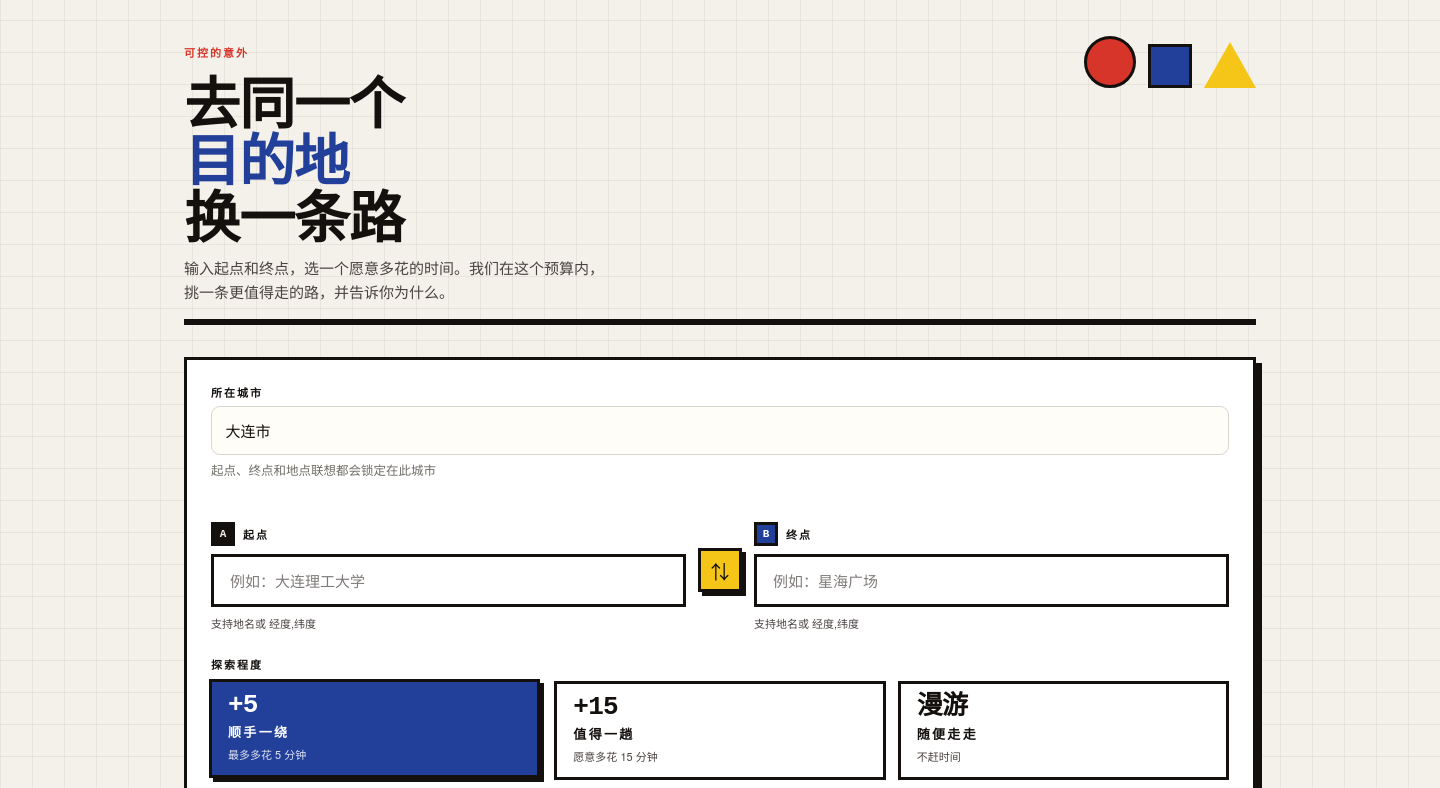
Test: HomeView › surfaces the backend error message on failure
Type "起点" into the dropdown labelled "A 起点". click: coordinates (448, 581)
box: [211, 554, 686, 607]
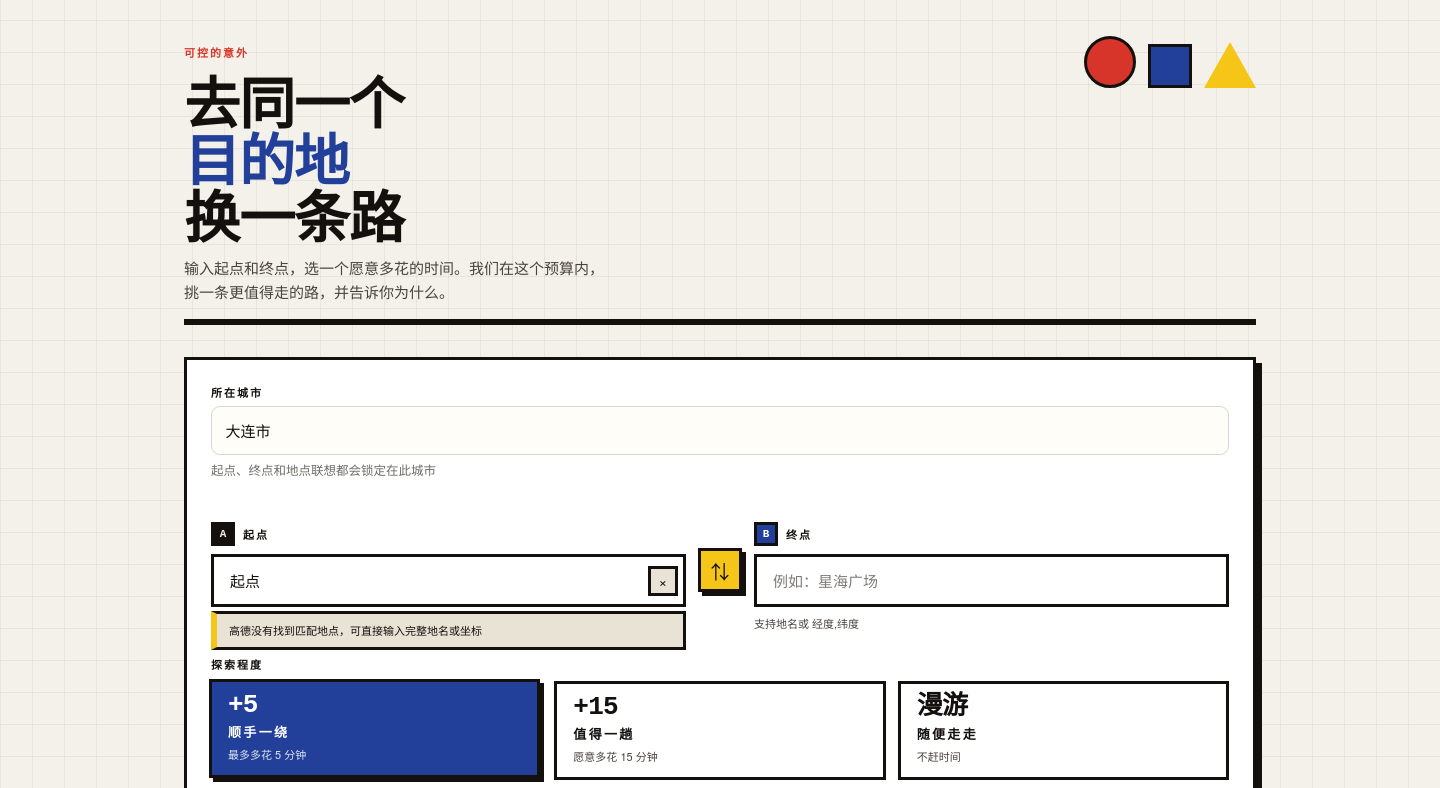
Type "终点" into the dropdown labelled "B 终点". click: coordinates (992, 581)
box: [754, 554, 1229, 607]
(page scrolled)
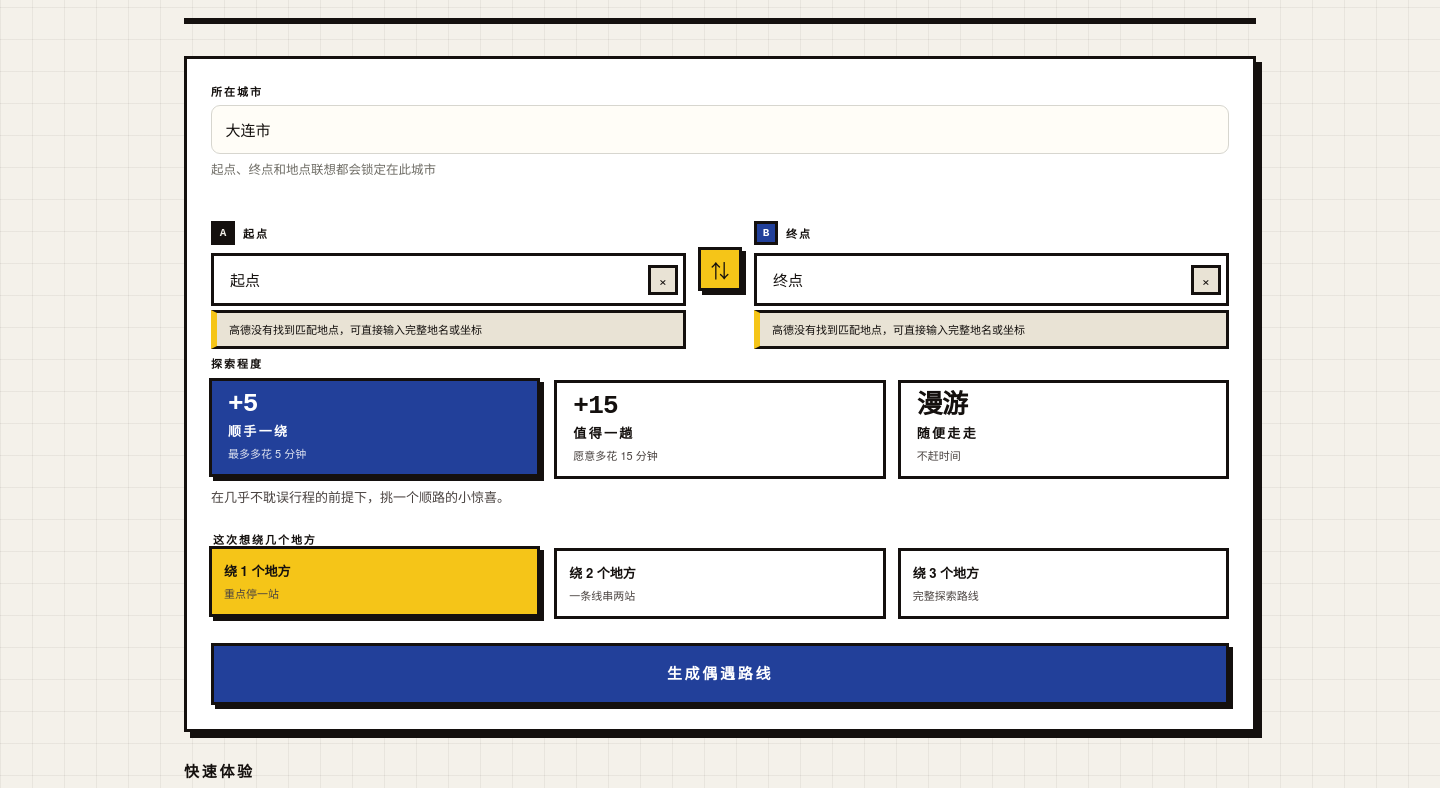
Submit the form
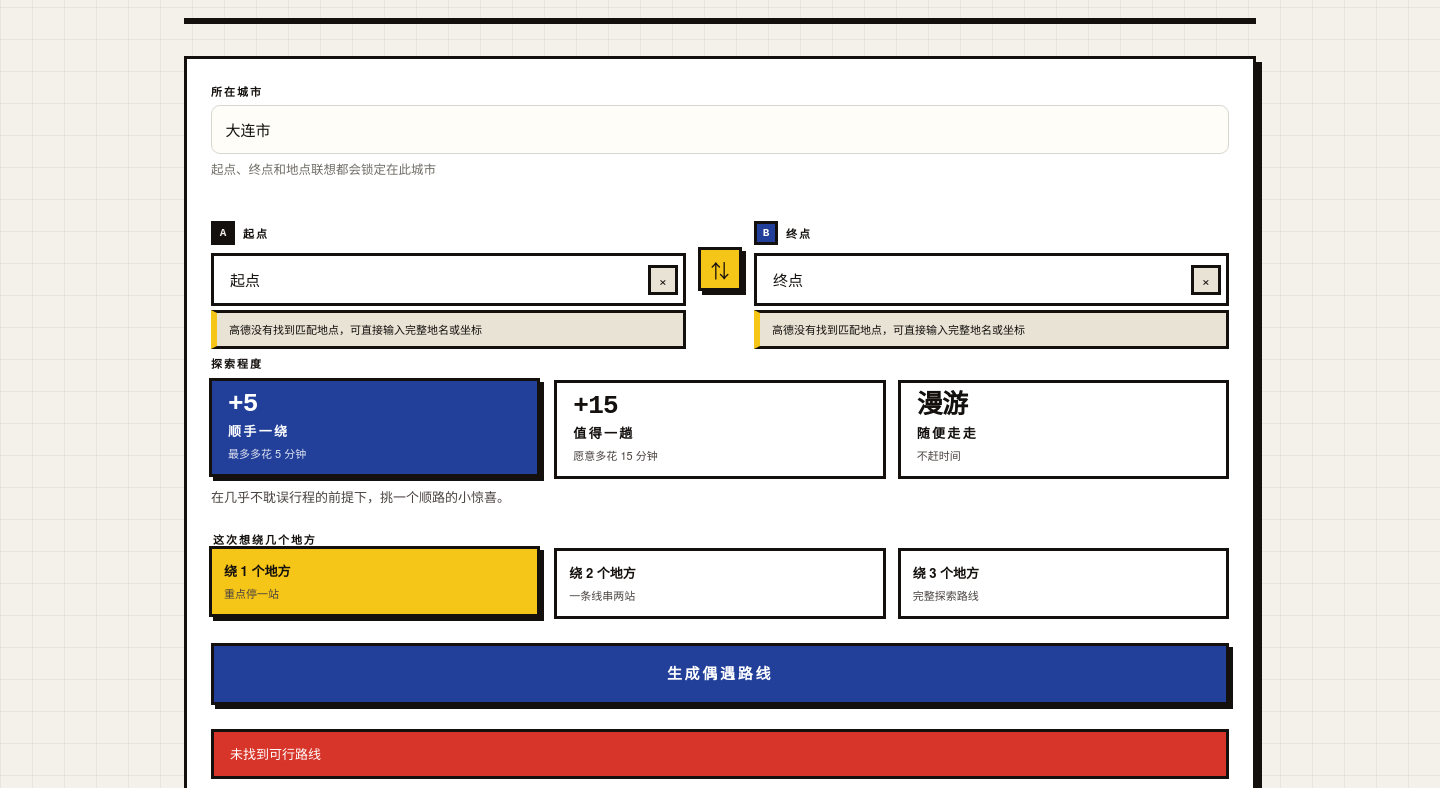
expect the message "未找到可行路线" is shown: met, box [211, 729, 1229, 779]
